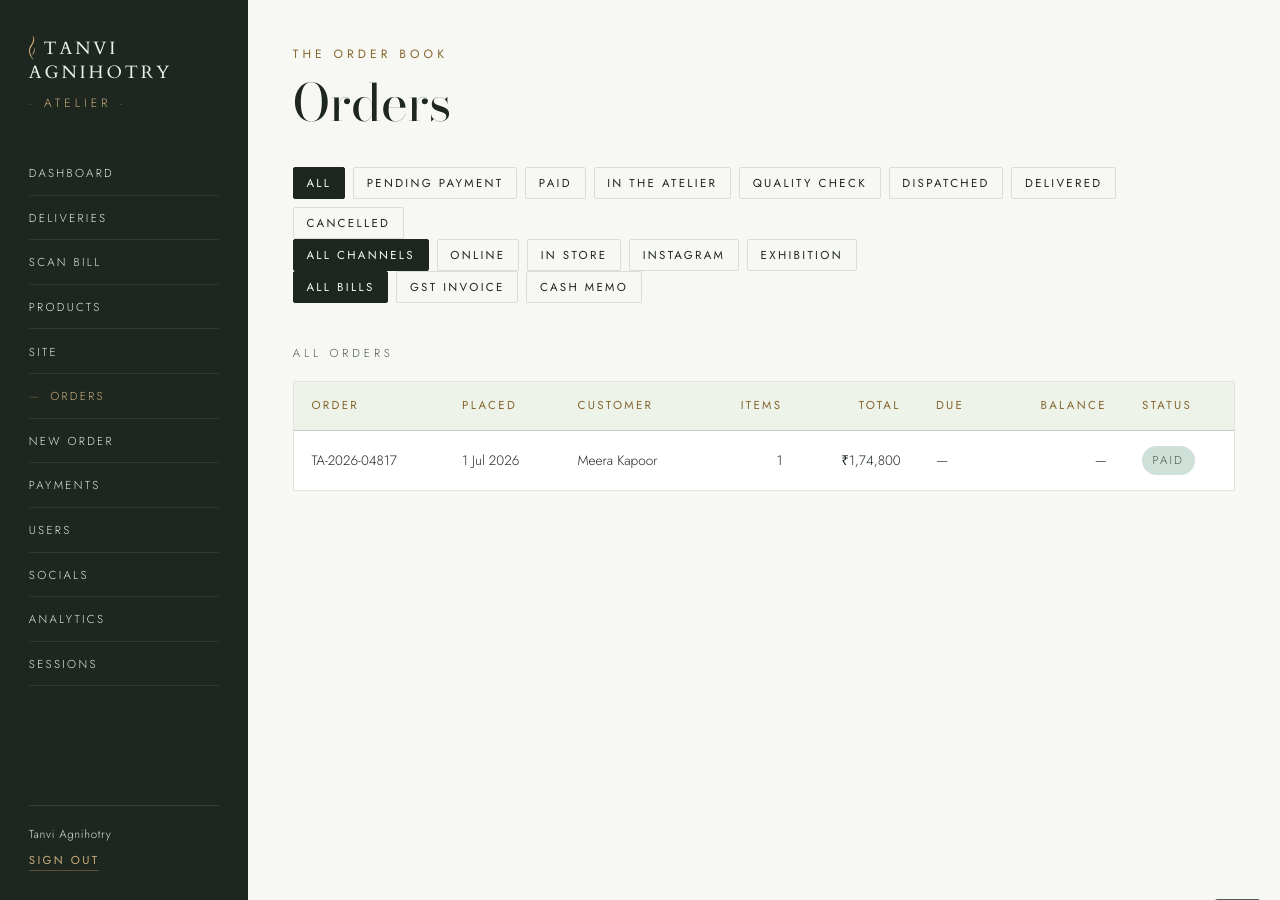
Test: Orders › shows the first-order discount row between items and delivery
Click the text "TA-2026-04817". click: (369, 460)
box: [294, 430, 444, 490]
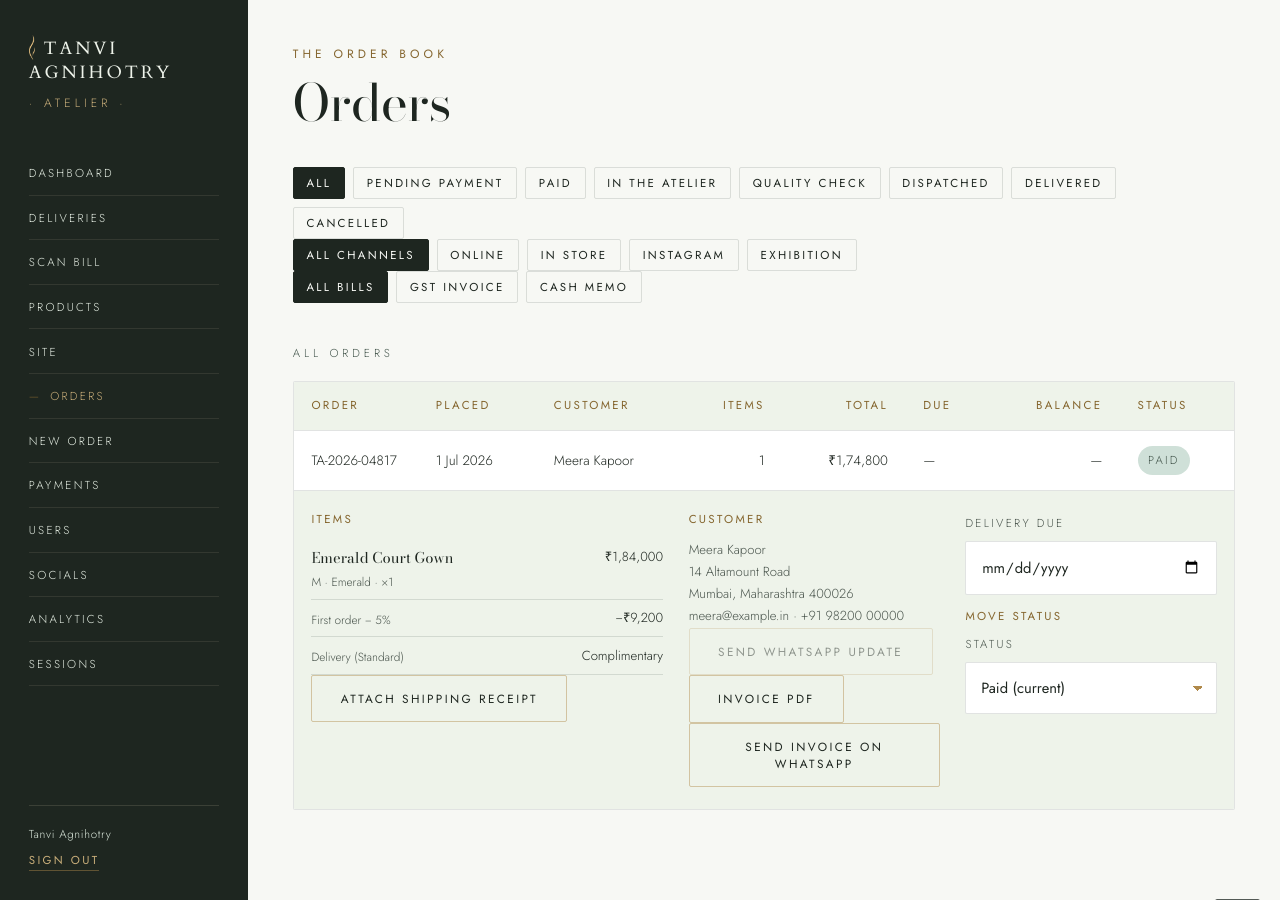
Expected: the element with class "oitem" shows "First order − 5%", [311, 611, 391, 628]
Expected: the element with class "oitem" shows "−₹9,200", [311, 600, 663, 637]
Expected: the element with class "oitem" shows "Delivery", [311, 648, 358, 665]
